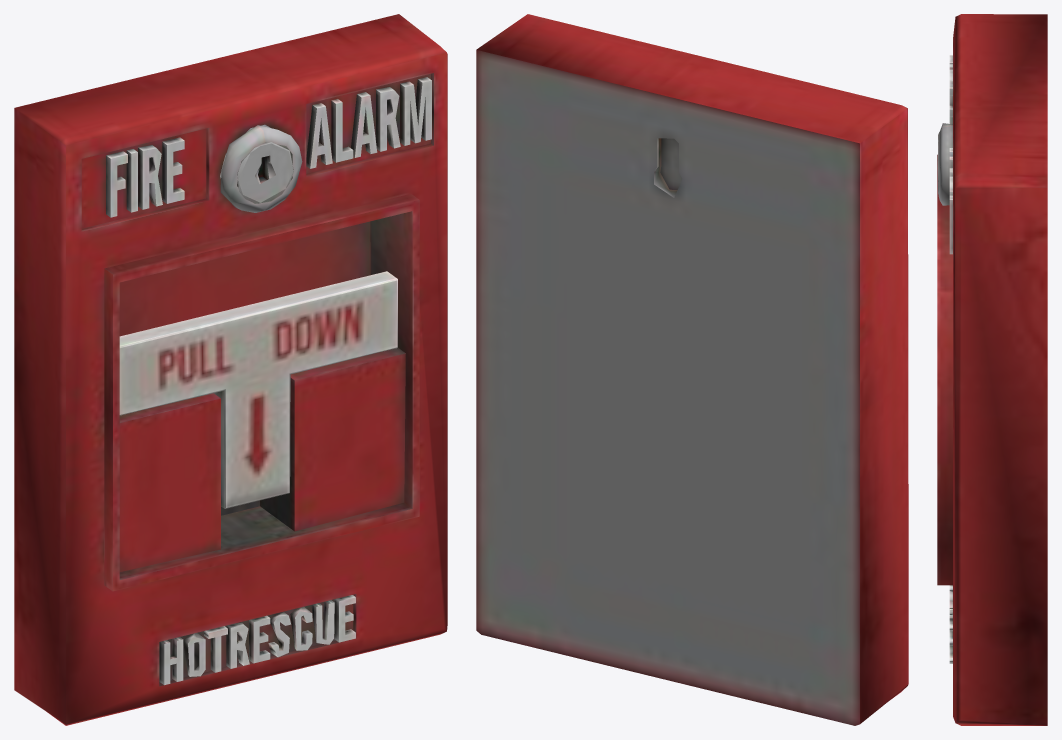
The model's file is fire_alarm.glb.
The picture shows the model from 3 angles, left to right: view 1: azimuth 30°, elevation 25°; view 2: azimuth 150°, elevation 25°; view 3: azimuth 270°, elevation 25°; orthographic projection. The views are drawn at different scales.
Parts seen in each view (by area): view 1: fire_alarm, fire_alarm_lever; view 2: fire_alarm; view 3: fire_alarm.
Boxes of the visible parts, x1,y1,x2,y2 form: fire_alarm: (14,14,447,725); fire_alarm_lever: (119,271,397,508); fire_alarm: (476,14,908,725); fire_alarm: (937,14,1047,725).
Size of the model in its own units: 0.0994 by 0.1436 by 0.0264.
Materials: 1 (1 with a texture image).
